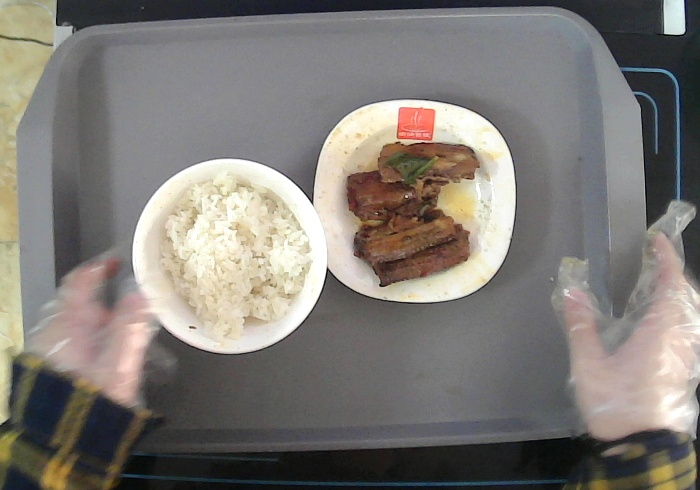SHKJ-Bai_Se_Si_Fang_Cai_Die: (312, 97, 518, 305)
SHKJ-Fan_Wan: (130, 156, 329, 356)
